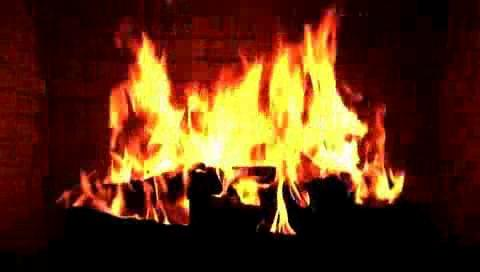fire: (93, 13, 388, 246)
